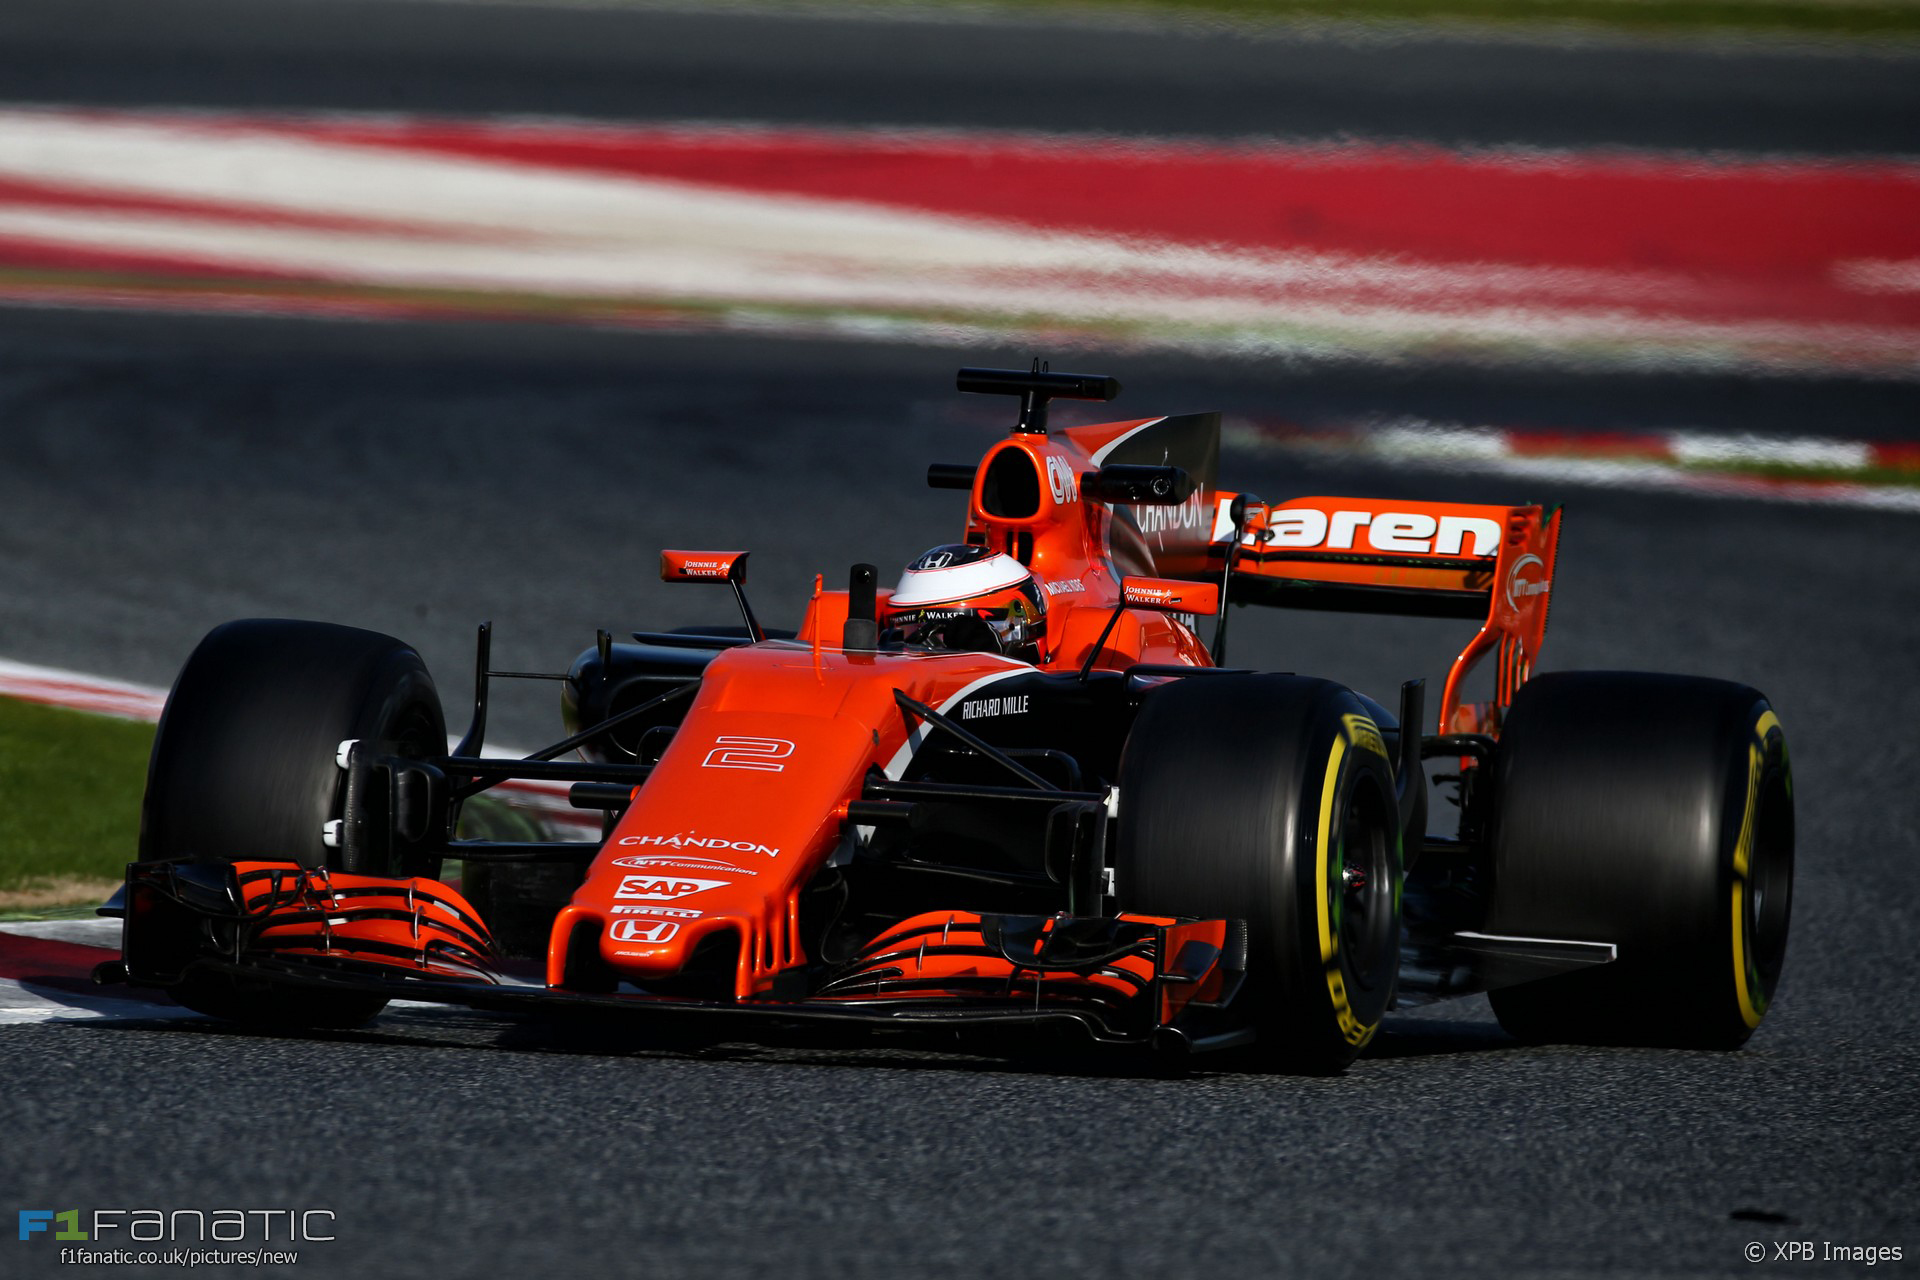F1 Car: (91, 353, 1809, 1091)
